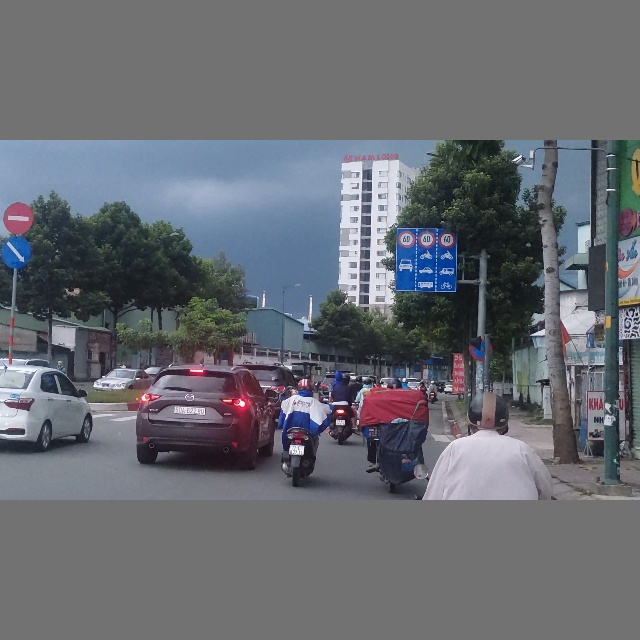P.102: (4, 203, 34, 235)
P.127*60: (398, 231, 415, 248), (419, 231, 436, 248), (439, 230, 456, 247)
P.131a: (470, 339, 492, 361)
R.302a: (2, 236, 31, 268)
R.415a: (396, 249, 457, 291)
